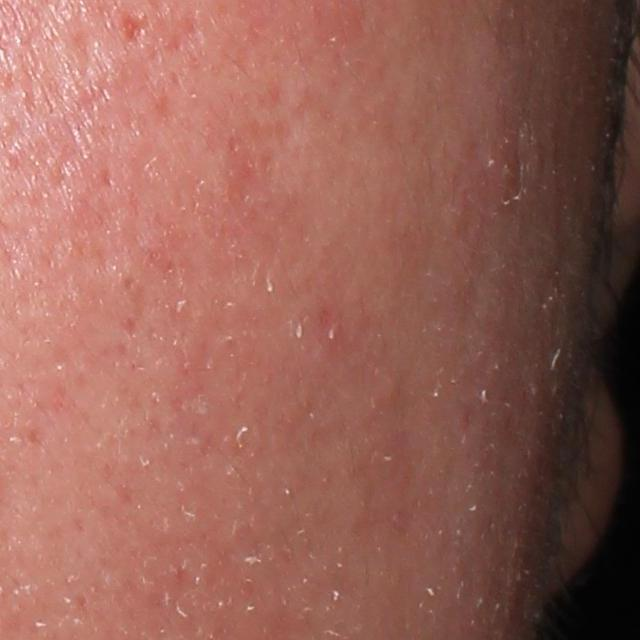atrophic_scar: (118, 11, 145, 42)
